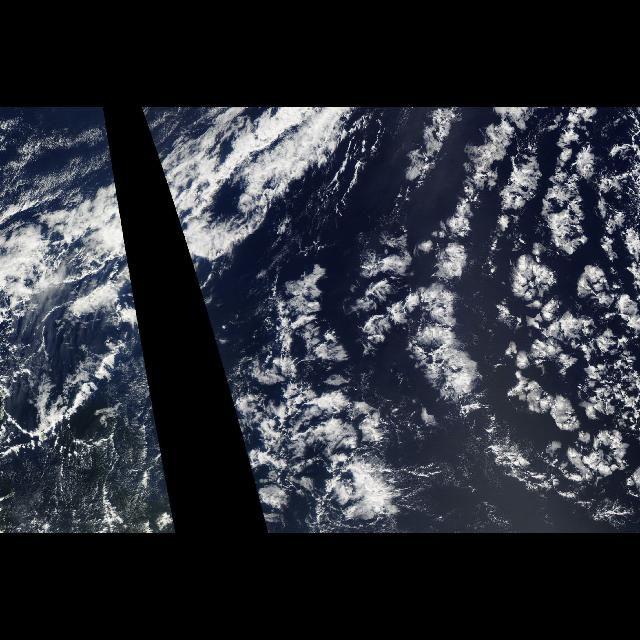Fish: (246, 256, 374, 514)
Flower: (382, 112, 640, 488)
